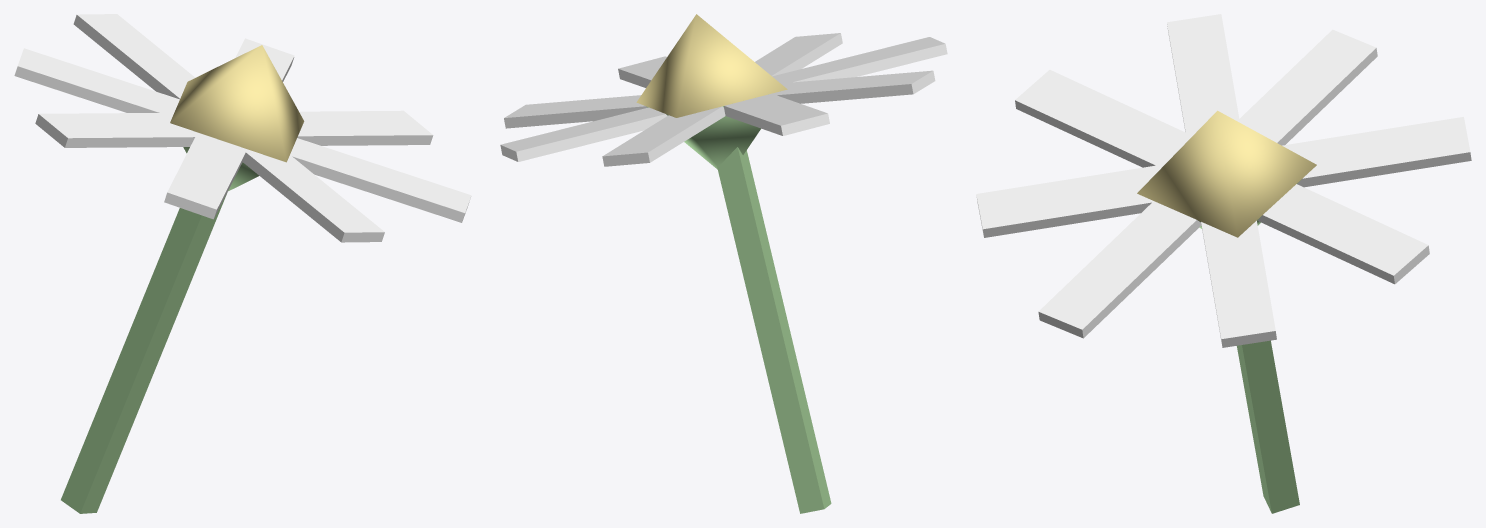
File: flower.glb
3 views of the same model, side by side, from view 1: azimuth 30°, elevation 25°; view 2: azimuth 150°, elevation 25°; view 3: azimuth 270°, elevation 25° (orthographic). The views are drawn at different scales.
Visible parts, largest first — view 1: cube, plane_copy_1, sphere, plane, plane_copy, plane_copy_copy; view 2: cube, sphere, plane_copy_copy, plane_copy, plane, plane_copy_1; view 3: plane_copy_copy, plane_copy_1, plane, plane_copy, sphere, cube.
Boxes of the visible parts, x1,y1,x2,y2 form: cube: (61,194,226,513); plane_copy_1: (14,48,471,222); sphere: (170,45,304,191); plane: (73,14,384,242); plane_copy: (35,110,433,147); plane_copy_copy: (164,38,294,219); cube: (717,147,831,513); sphere: (636,14,787,169); plane_copy_copy: (500,37,947,161); plane_copy: (504,70,935,128); plane: (602,33,842,166); plane_copy_1: (618,56,829,135); plane_copy_copy: (1015,70,1429,284); plane_copy_1: (1038,29,1377,338); plane: (976,117,1471,237); plane_copy: (1167,14,1276,347); sphere: (1137,110,1316,237); cube: (1237,340,1299,513).
Size of the model in its own units: 0.9093 by 0.9902 by 0.9364.
